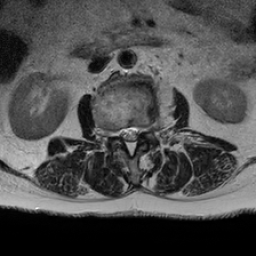CCS_normal: (126, 121, 134, 162)
LFS_stenosis: (141, 120, 148, 137)
LLS_normal: (134, 122, 141, 145)
RFS_stenosis: (110, 123, 120, 145)
RLS_normal: (120, 122, 126, 148)
